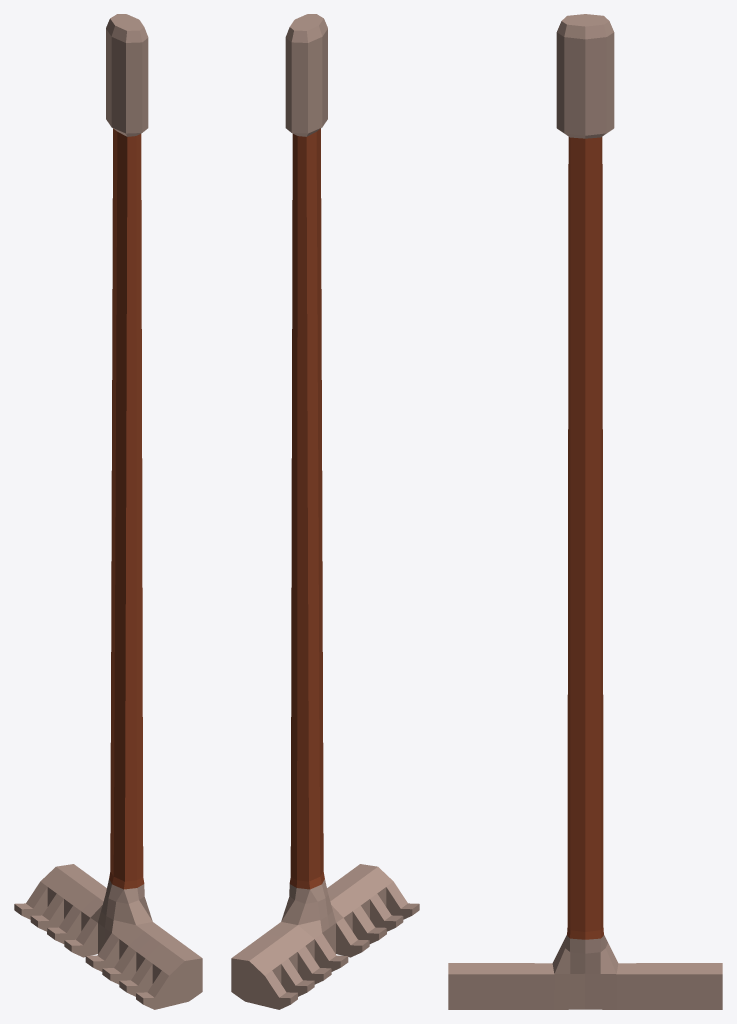
File: rake.glb
3 renders of one model, left to right at view 1: azimuth 30°, elevation 25°; view 2: azimuth 150°, elevation 25°; view 3: azimuth 270°, elevation 25°, orthographic. The views are drawn at different scales.
Visible parts, largest first — view 1: rake; view 2: rake; view 3: rake.
Boxes of the visible parts, <box> form: rake: <box>14,14,202,1009</box>; rake: <box>231,14,419,1009</box>; rake: <box>448,14,722,1009</box>.
Size of the model in its own units: 0.3821 by 5.29 by 1.33.
1 material, 1 textured.
